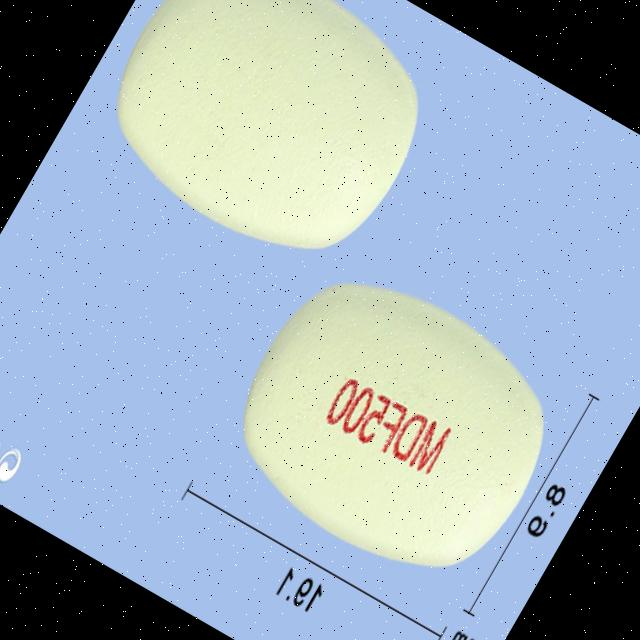Clarid: (199, 234, 592, 616), (74, 0, 463, 292)
